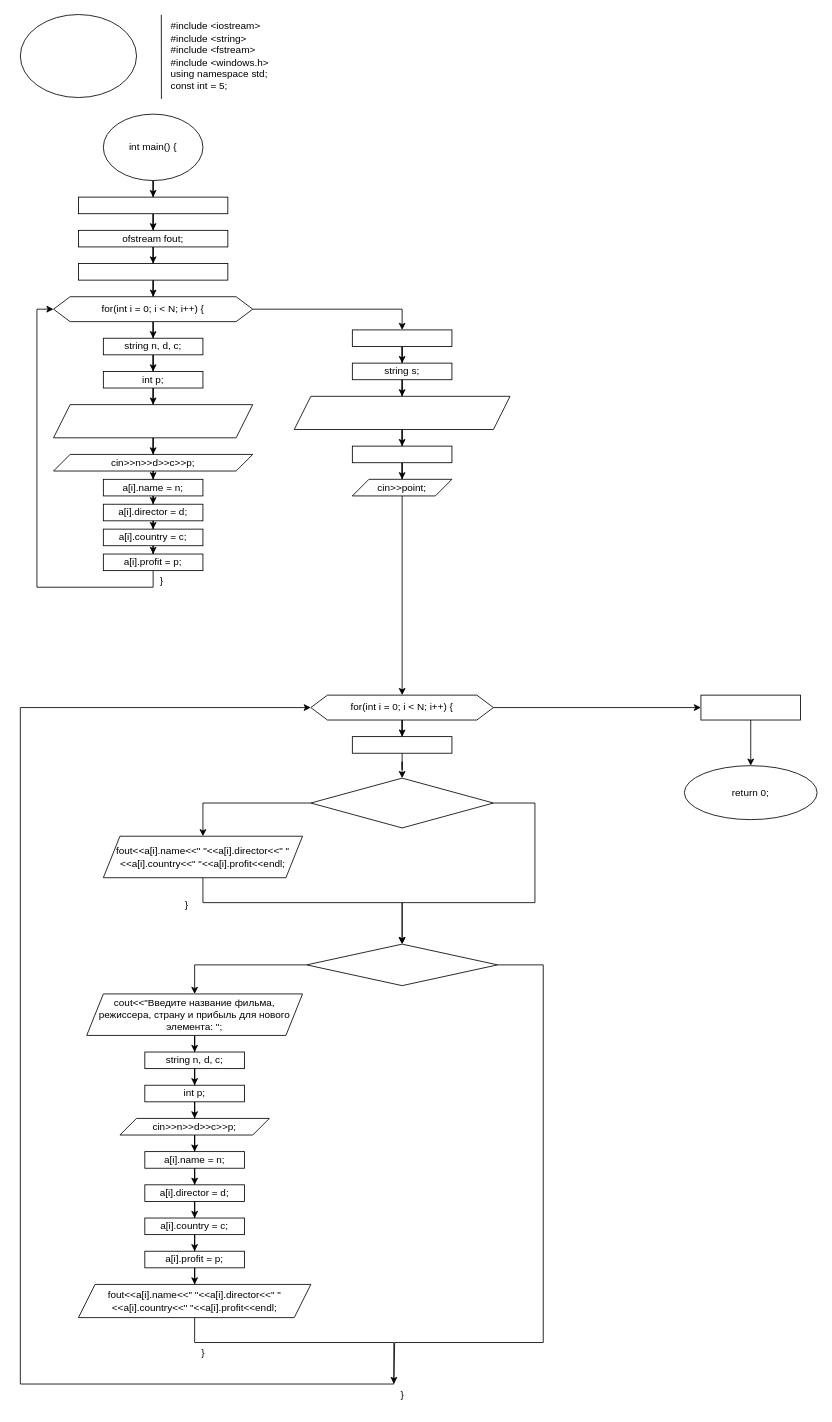
Image size: 832x1422. Some labels were removed from this diagram. Each missing label, with the box of its shape:
cout<<"Введите название фильма, после которого хотите добавить элемент: "': (293, 395, 510, 430)
cout<<"Введите название фильма, режиссера, страну, прибыль: ";: (53, 404, 253, 438)
fout.close();: (700, 694, 801, 720)
fout.open("f1.txt");: (78, 263, 228, 280)
getline(file, s);: (352, 736, 452, 753)
if (!((i == N-1) || (i == N-2))) {: (310, 777, 493, 828)
if (a[i].name == point) {: (306, 943, 498, 986)
ifstream file("f1.txt");: (352, 329, 452, 347)
setlocale(LC_ALL, "RU"): (78, 196, 228, 214)
string point;: (352, 445, 452, 463)
struct film { string name; string director; string country; int profit; };: (20, 14, 137, 98)
